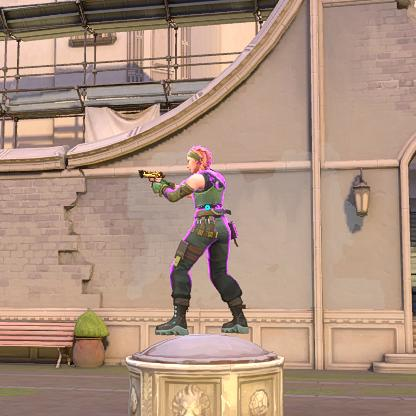enemyBody: (197, 184, 225, 228)
enemyHead: (191, 146, 216, 168)
